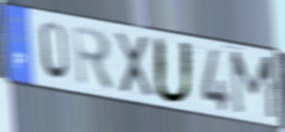0: (37, 20, 70, 83)
4: (200, 46, 231, 113)
M: (228, 49, 280, 124)
R: (71, 23, 116, 95)
U: (152, 35, 196, 107)
X: (112, 29, 156, 99)
